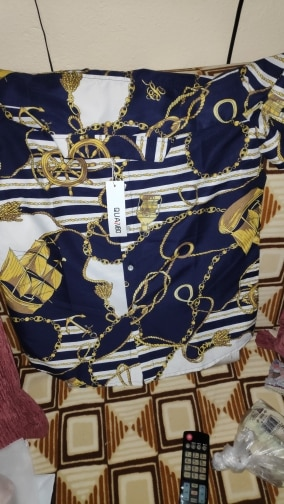shirts: (3, 65, 264, 372)
